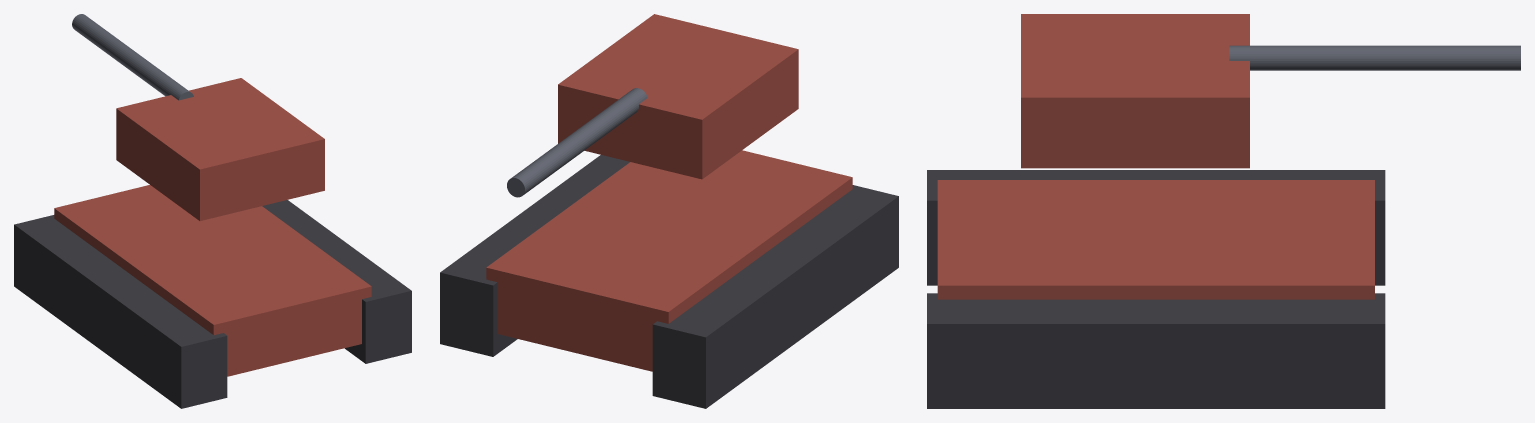
The model's file is SU_GromoboyRam_LOD0.glb.
3 renders of one model, left to right at view 1: azimuth 30°, elevation 25°; view 2: azimuth 150°, elevation 25°; view 3: azimuth 270°, elevation 25°, orthographic. The views are drawn at different scales.
Visible parts, largest first — view 1: Cube, Cube.003, Cube.001, Cube.002, Cylinder; view 2: Cube, Cube.003, Cube.001, Cube.002, Cylinder; view 3: Cube, Cube.002, Cube.003, Cylinder, Cube.001.
Boxes of the visible parts, x1=… form: Cube: x1=54, y1=185, x2=371, y2=376; Cube.003: x1=116, y1=78, x2=324, y2=220; Cube.001: x1=14, y1=215, x2=227, y2=408; Cube.002: x1=262, y1=200, x2=411, y2=363; Cylinder: x1=72, y1=14, x2=193, y2=100; Cube: x1=486, y1=150, x2=852, y2=371; Cube.003: x1=558, y1=14, x2=798, y2=179; Cube.001: x1=652, y1=185, x2=898, y2=408; Cube.002: x1=440, y1=155, x2=629, y2=356; Cylinder: x1=507, y1=88, x2=647, y2=197; Cube: x1=937, y1=180, x2=1374, y2=299; Cube.002: x1=927, y1=293, x2=1385, y2=408; Cube.003: x1=1021, y1=14, x2=1249, y2=168; Cylinder: x1=1229, y1=45, x2=1520, y2=70; Cube.001: x1=927, y1=170, x2=1385, y2=285.
Size of the model in its own units: 3.5 by 3.02 by 5.7.
